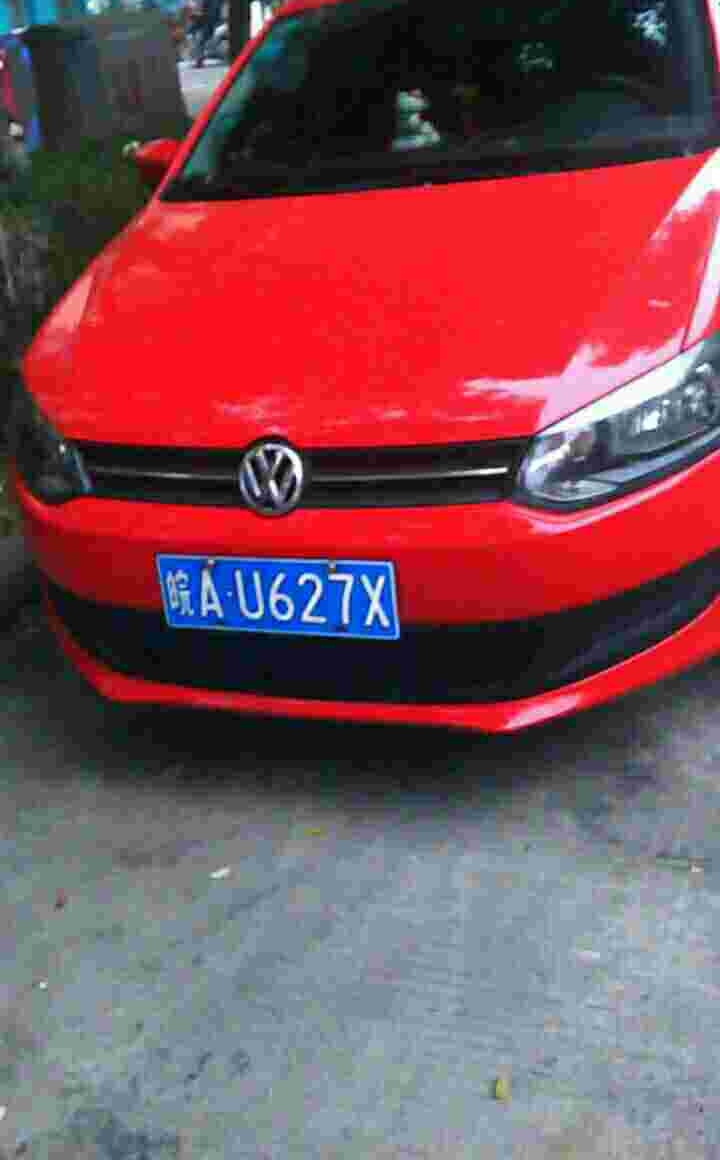plate: (155, 550, 405, 642)
